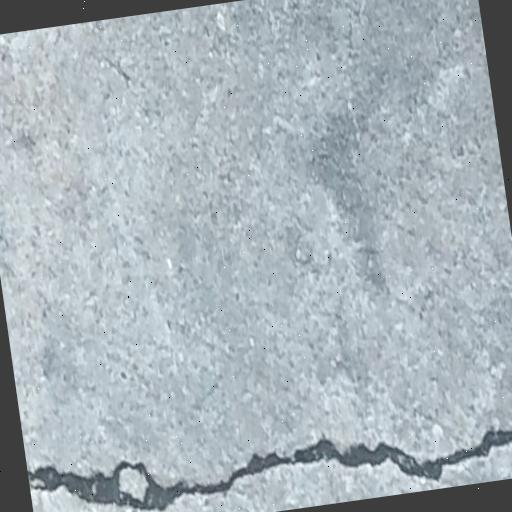spalling: (35, 413, 512, 512)
